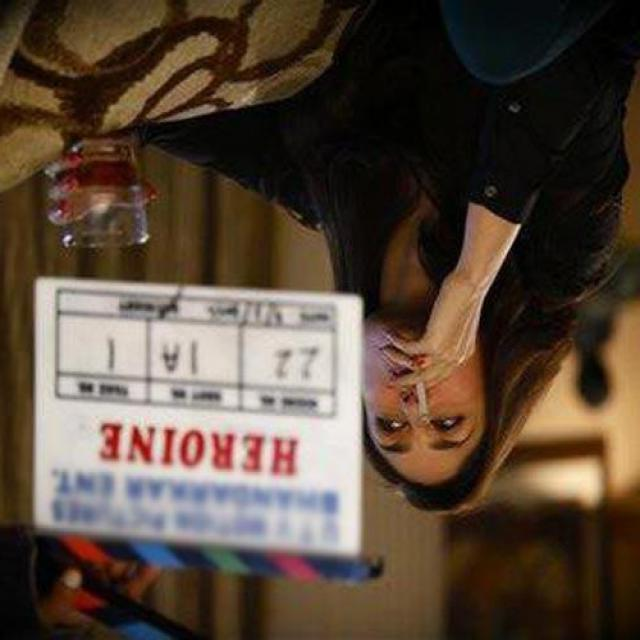cigarette: (408, 360, 438, 430)
